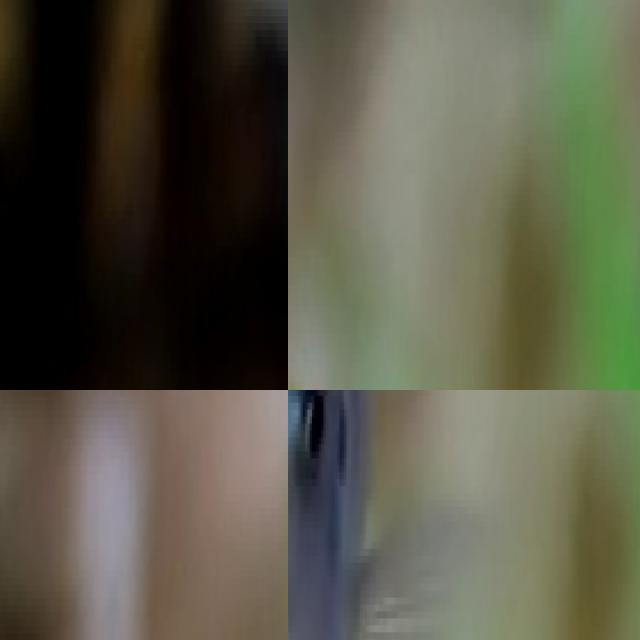fish: (0, 0, 288, 390), (288, 264, 622, 390)
